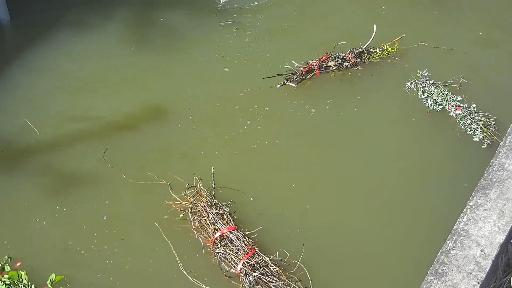twig: (98, 145, 315, 288), (256, 30, 412, 93), (407, 68, 501, 143), (0, 246, 65, 288)
